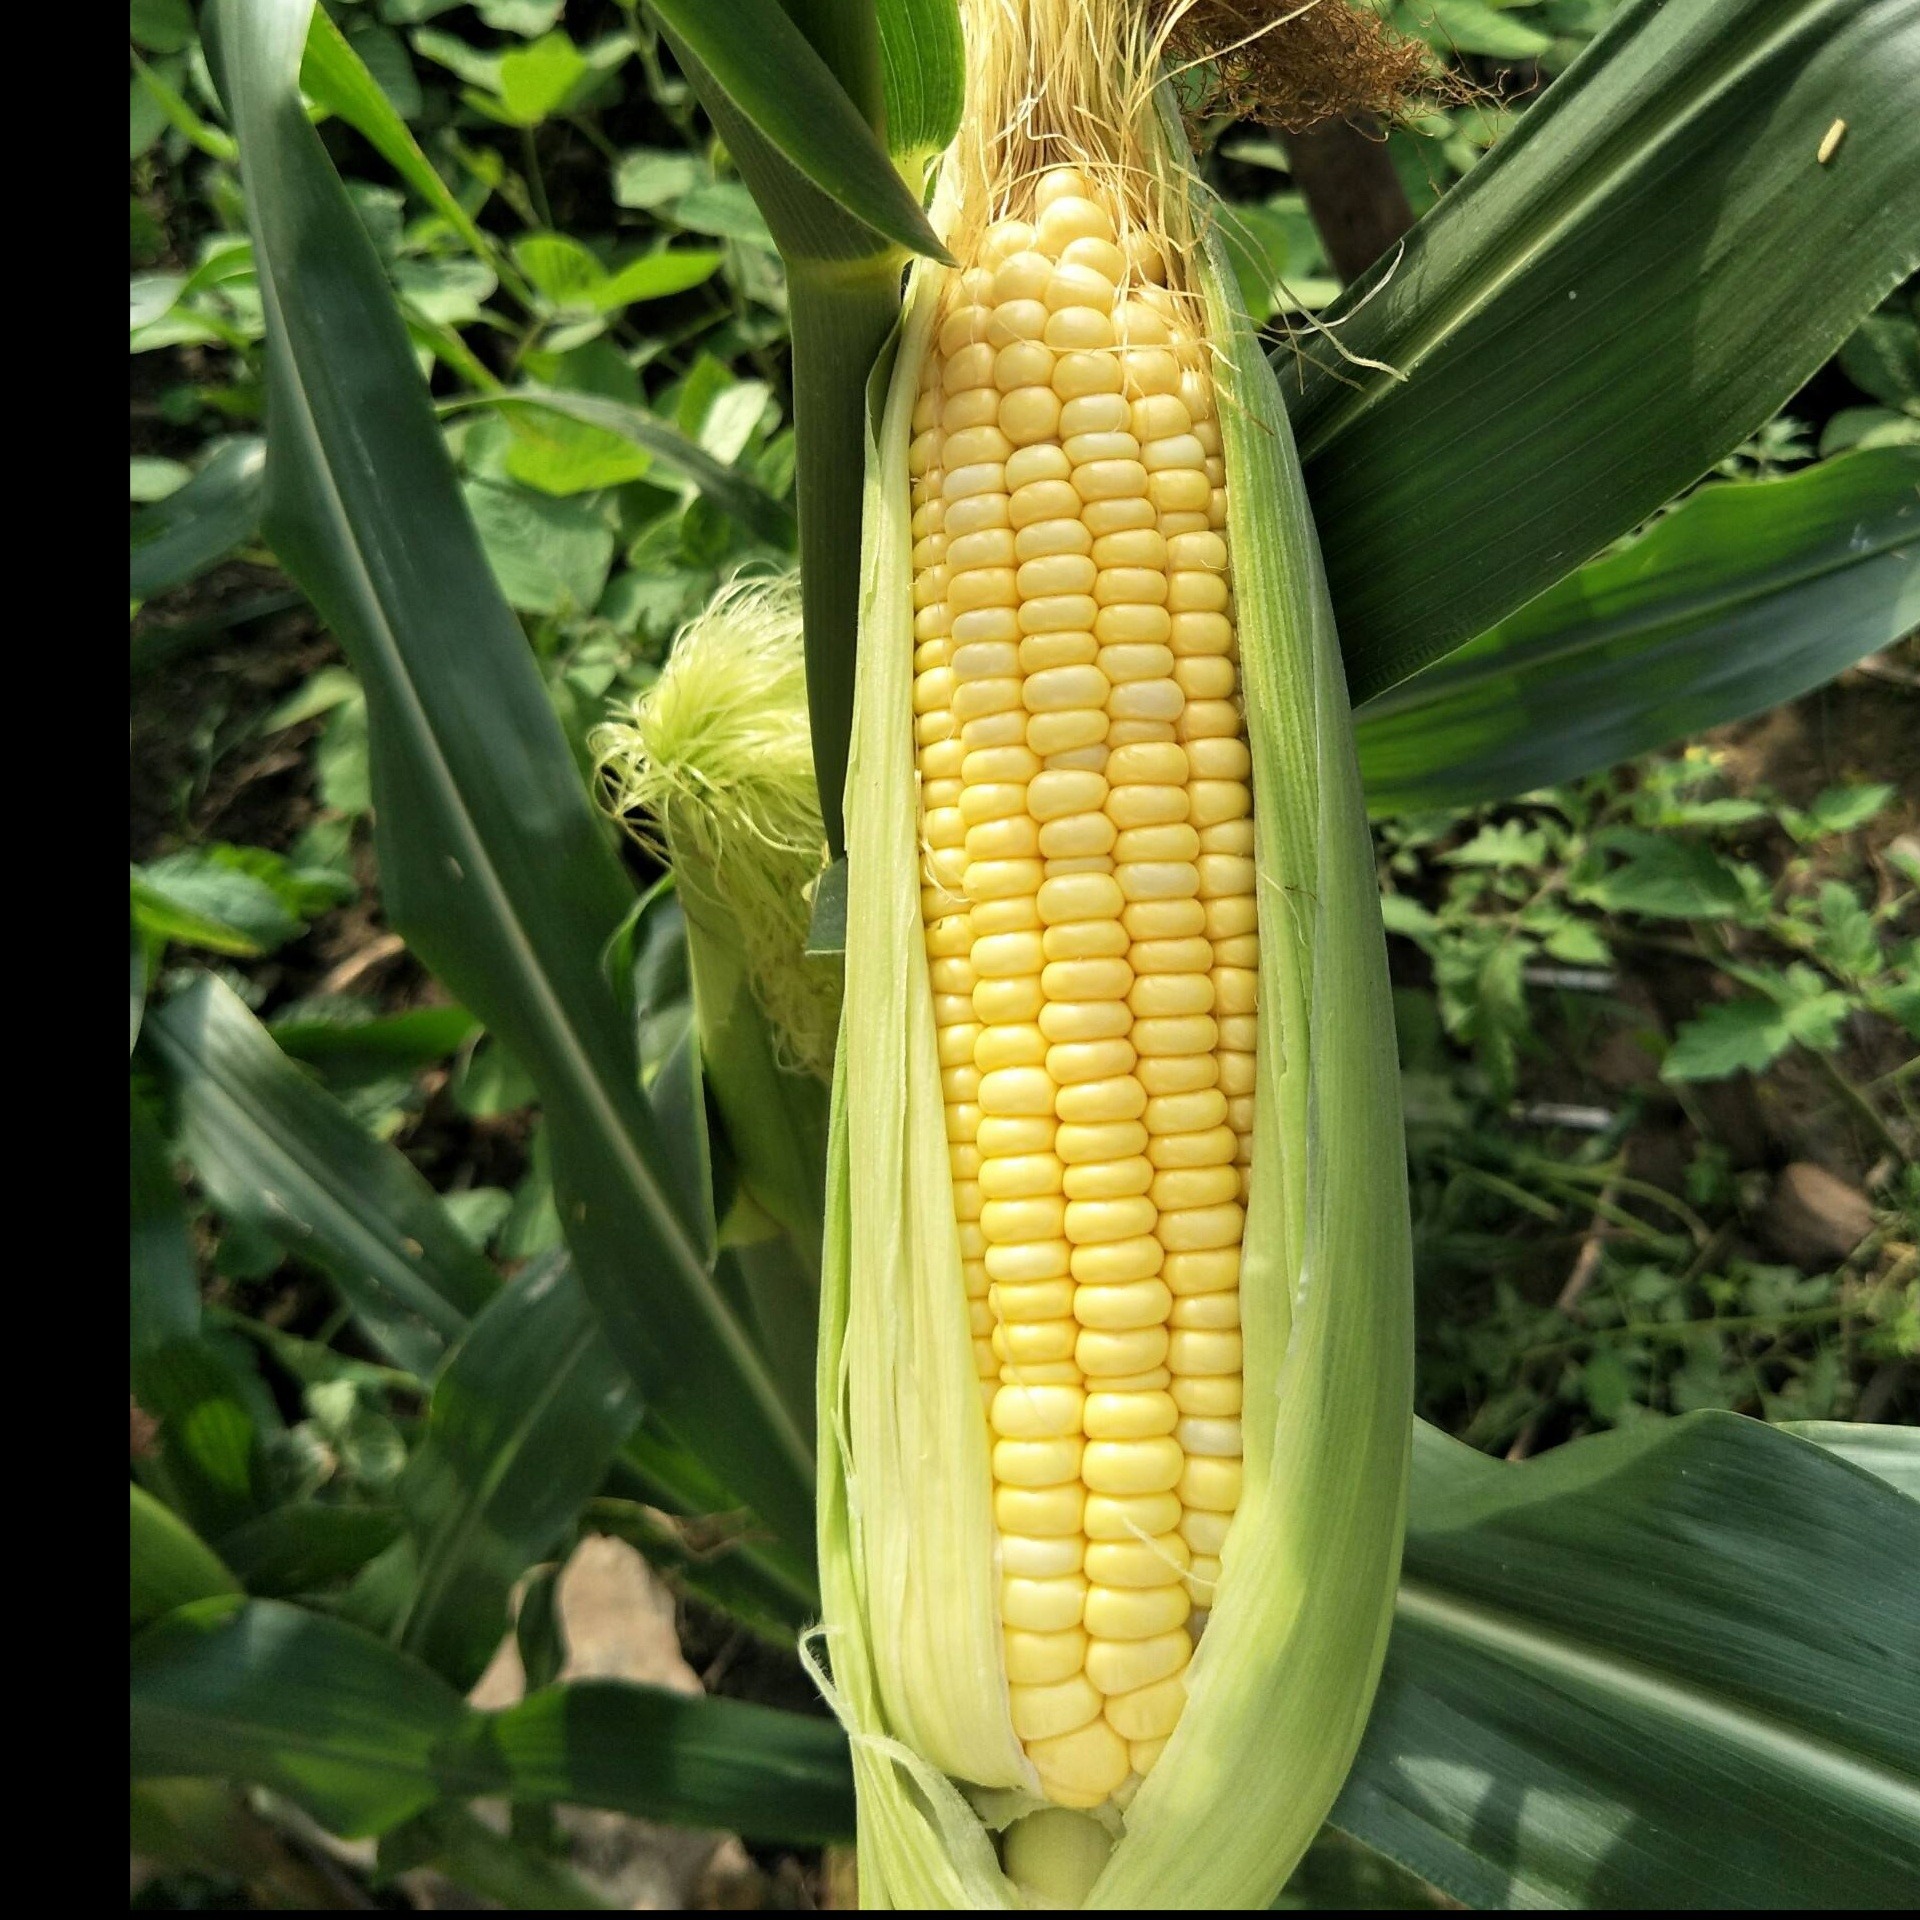corn: (823, 137, 1412, 1909)
